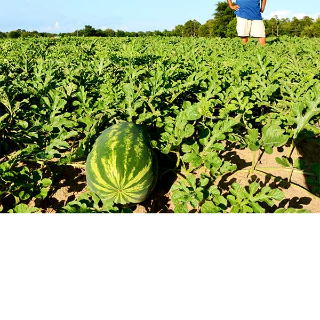dua_hau: (80, 119, 155, 205)
